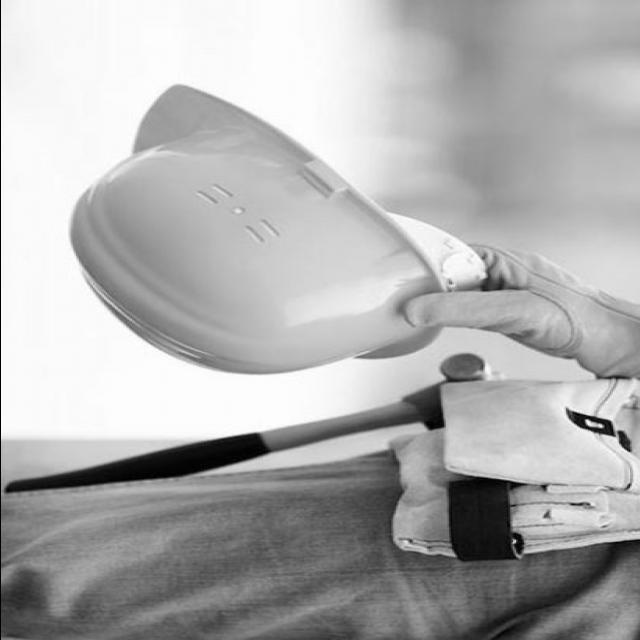safety_helmet: (67, 83, 485, 373)
